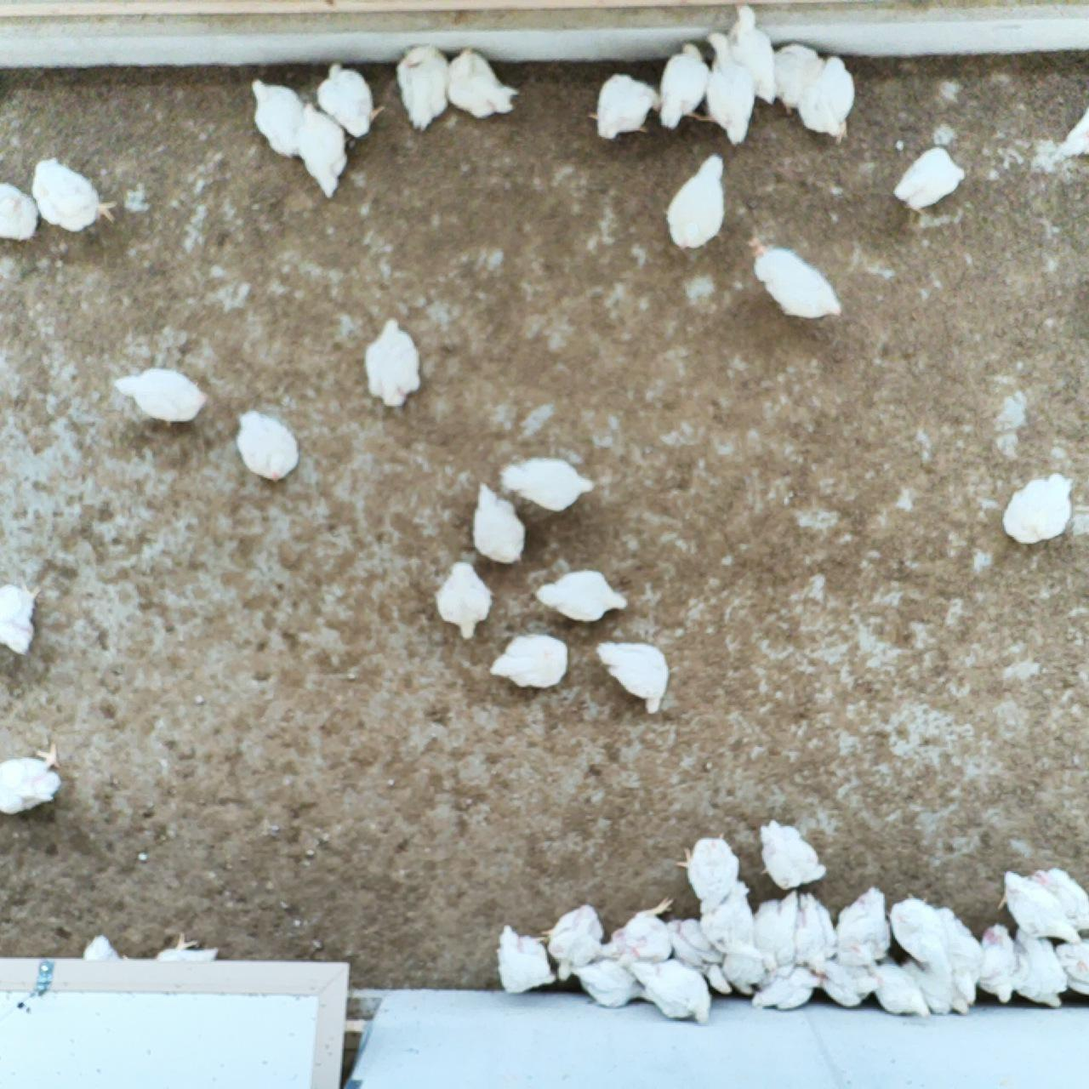chicken: (743, 224, 848, 325), (30, 153, 122, 235), (663, 151, 731, 255), (993, 868, 1083, 945), (109, 362, 212, 428), (626, 952, 715, 1028), (702, 29, 757, 148), (497, 449, 597, 513), (594, 637, 673, 718), (997, 469, 1079, 547), (794, 54, 860, 150), (360, 312, 424, 410), (444, 41, 521, 122), (889, 142, 966, 222), (311, 58, 387, 139), (675, 827, 741, 918), (428, 557, 498, 642), (595, 896, 676, 968), (726, 0, 779, 109), (668, 914, 734, 1001), (655, 37, 713, 136), (294, 100, 351, 200), (754, 815, 831, 889), (541, 901, 608, 985), (584, 69, 663, 140), (533, 566, 629, 624), (393, 40, 453, 132), (1009, 922, 1071, 1011), (0, 736, 66, 818), (487, 630, 574, 692), (832, 881, 895, 966), (236, 404, 302, 485), (469, 481, 529, 568), (884, 888, 949, 968), (246, 74, 304, 161), (749, 886, 803, 977), (568, 949, 643, 1014), (494, 921, 558, 997), (772, 41, 832, 118), (699, 879, 758, 955), (942, 915, 988, 1009), (905, 954, 972, 1016), (793, 891, 839, 981), (977, 920, 1025, 1005), (872, 958, 933, 1022), (0, 574, 46, 658), (1031, 865, 1089, 931), (749, 964, 820, 1016), (816, 955, 881, 1011), (0, 176, 41, 246), (721, 944, 771, 1000), (1052, 935, 1089, 999), (1053, 102, 1089, 165), (154, 929, 221, 962), (80, 932, 127, 961)
